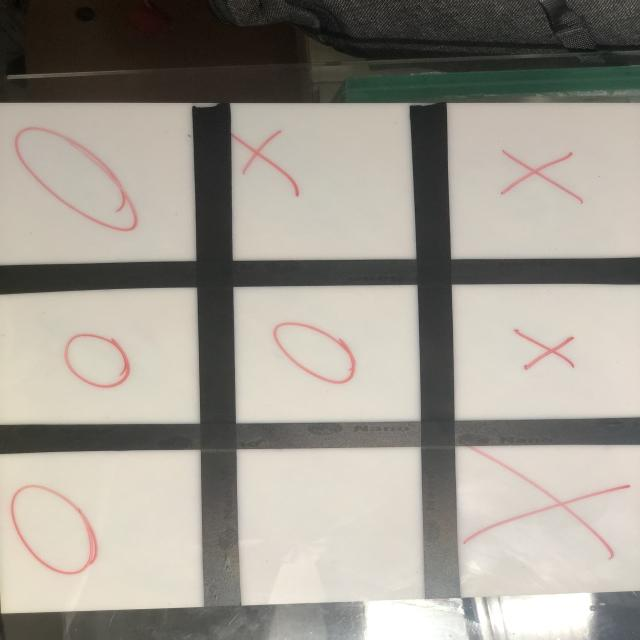null: (236, 444, 432, 605)
o: (6, 120, 154, 238), (6, 481, 104, 577), (267, 315, 371, 392), (58, 325, 138, 396)
table: (0, 102, 640, 614)
x: (458, 446, 629, 560), (494, 144, 596, 207), (234, 123, 305, 205), (494, 322, 585, 378)
